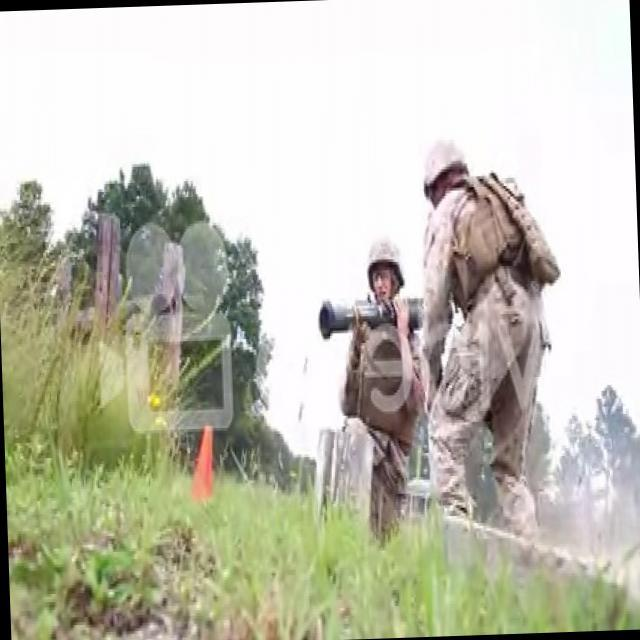rocket: (318, 286, 426, 338)
